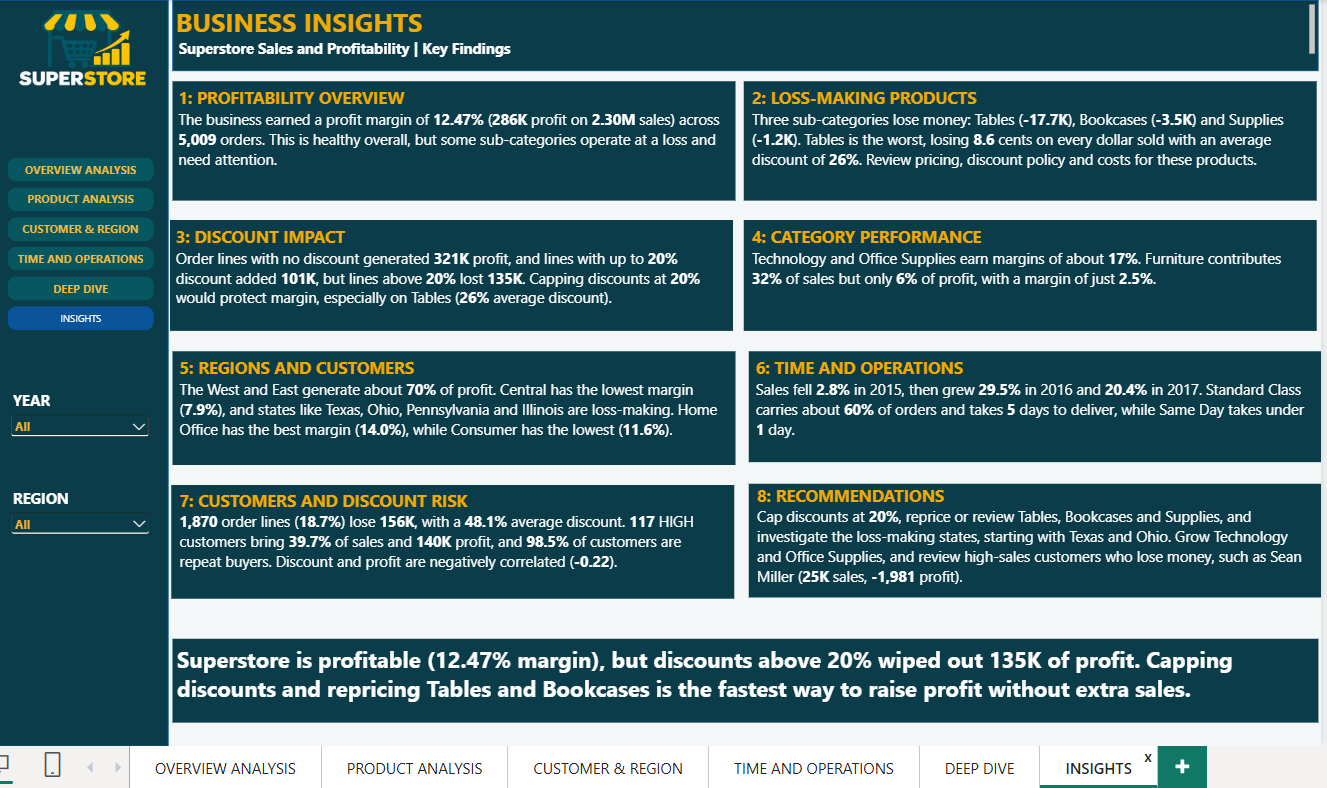

The dashboard page shown, as its layout file describes it:
{"tool":"powerbi","page":{"name":"INSIGHTS","canvas":[1920,1080],"ordinal":5},"visuals":[{"type":"shape","box":[0,0,251.1,1080.6],"z":0},{"type":"shape","box":[257.3,0,1659,102.9],"z":1000},{"type":"textbox","box":[251.1,0,1669.3,102.9],"z":2000},{"type":"shape","title":"1: PROFITABILITY OVERVIEW","box":[257.3,117.3,815.1,172.9],"z":3000},{"type":"textbox","box":[253.2,117.3,821.3,172.9],"z":4000},{"type":"shape","title":"1: PROFITABILITY OVERVIEW","box":[1084.7,117.3,829.5,172.9],"z":5000},{"type":"textbox","box":[1084.7,117.3,829.5,172.9],"z":6000},{"type":"shape","title":"1: PROFITABILITY OVERVIEW","box":[255.2,701.9,815.1,164.7],"z":7000},{"type":"shape","title":"1: PROFITABILITY OVERVIEW","box":[1090.9,508.4,829.5,160.5],"z":8000},{"type":"shape","title":"1: PROFITABILITY OVERVIEW","box":[253.2,319,815.1,160.5],"z":9000},{"type":"shape","title":"1: PROFITABILITY OVERVIEW","box":[1084.7,319,829.5,160.5],"z":10000},{"type":"shape","title":"1: PROFITABILITY OVERVIEW","box":[257.3,508.4,815.1,164.7],"z":11000},{"type":"shape","title":"1: PROFITABILITY OVERVIEW","box":[1090.5,699.8,829.5,164.7],"z":12000},{"type":"textbox","box":[249.1,319,821.3,160.5],"z":13000},{"type":"textbox","box":[1084.7,319,829.5,160.5],"z":14000},{"type":"textbox","box":[255.2,508.4,815.1,164.7],"z":15000},{"type":"textbox","box":[1088.9,508.4,831.6,160.5],"z":16000},{"type":"textbox","box":[255.2,699.8,815.1,164.7],"z":17000},{"type":"textbox","box":[1090.5,693.7,829.5,164.7],"z":18000},{"type":"shape","title":"1: PROFITABILITY OVERVIEW","box":[257.3,924.2,1659,121.4],"z":19000},{"type":"textbox","box":[251.1,924.2,1665.2,121.4],"z":20000},{"type":"slicer","fields":{"Values":["Calender.year"]},"box":[18.5,564,210,88],"z":21000},{"type":"slicer","fields":{"Values":["superstore.Region"]},"box":[18.5,706,210.3,79.1],"z":22000},{"type":"pageNavigator","box":[18.5,228.5,212.3,252.8],"z":23000},{"type":"image","box":[0,0,251.1,140],"z":24000}]}

Visuals, with their boxes on the page's 1920x1080 design canvas (x1, y1, x2, y2). These are canvas units, not pixel positions in the 1327x788 screenshot, which may show the page scaled, cropped or inside an application window:
shape: BBox(0, 0, 251, 1081)
shape: BBox(257, 0, 1916, 103)
textbox: BBox(251, 0, 1920, 103)
"1: PROFITABILITY OVERVIEW" shape: BBox(257, 117, 1072, 290)
textbox: BBox(253, 117, 1074, 290)
"1: PROFITABILITY OVERVIEW" shape: BBox(1085, 117, 1914, 290)
textbox: BBox(1085, 117, 1914, 290)
"1: PROFITABILITY OVERVIEW" shape: BBox(255, 702, 1070, 867)
"1: PROFITABILITY OVERVIEW" shape: BBox(1091, 508, 1920, 669)
"1: PROFITABILITY OVERVIEW" shape: BBox(253, 319, 1068, 480)
"1: PROFITABILITY OVERVIEW" shape: BBox(1085, 319, 1914, 480)
"1: PROFITABILITY OVERVIEW" shape: BBox(257, 508, 1072, 673)
"1: PROFITABILITY OVERVIEW" shape: BBox(1090, 700, 1920, 864)
textbox: BBox(249, 319, 1070, 480)
textbox: BBox(1085, 319, 1914, 480)
textbox: BBox(255, 508, 1070, 673)
textbox: BBox(1089, 508, 1920, 669)
textbox: BBox(255, 700, 1070, 864)
textbox: BBox(1090, 694, 1920, 858)
"1: PROFITABILITY OVERVIEW" shape: BBox(257, 924, 1916, 1046)
textbox: BBox(251, 924, 1916, 1046)
slicer - Calender.year: BBox(18, 564, 228, 652)
slicer - superstore.Region: BBox(18, 706, 229, 785)
pageNavigator: BBox(18, 228, 231, 481)
image: BBox(0, 0, 251, 140)
